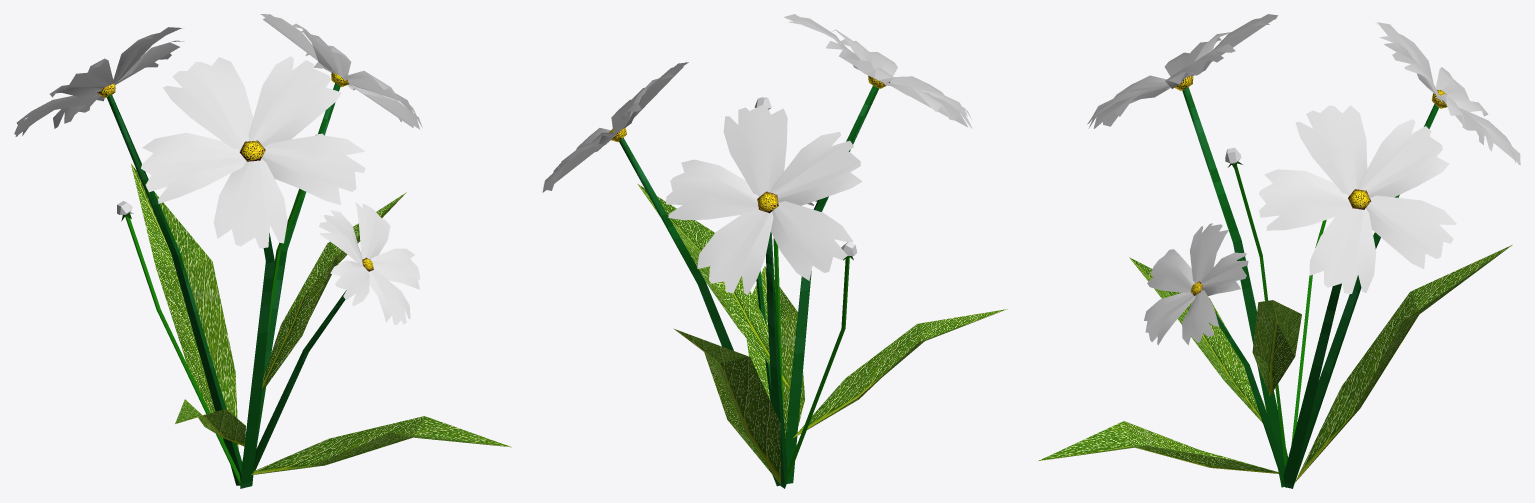
Rendered from flor.fbx.
3 views of the same model, side by side, from view 1: azimuth 30°, elevation 25°; view 2: azimuth 150°, elevation 25°; view 3: azimuth 270°, elevation 25° (orthographic).
Parts seen in each view (by area): view 1: Circle.008; view 2: Circle.008; view 3: Circle.008.
Part boxes in pixels (box(x1,y1,x2,y2)): Circle.008: box(14, 14, 511, 488); Circle.008: box(542, 14, 1007, 488); Circle.008: box(1038, 14, 1520, 488).
Size of the model in its own units: 39.08 by 47.97 by 47.05.
